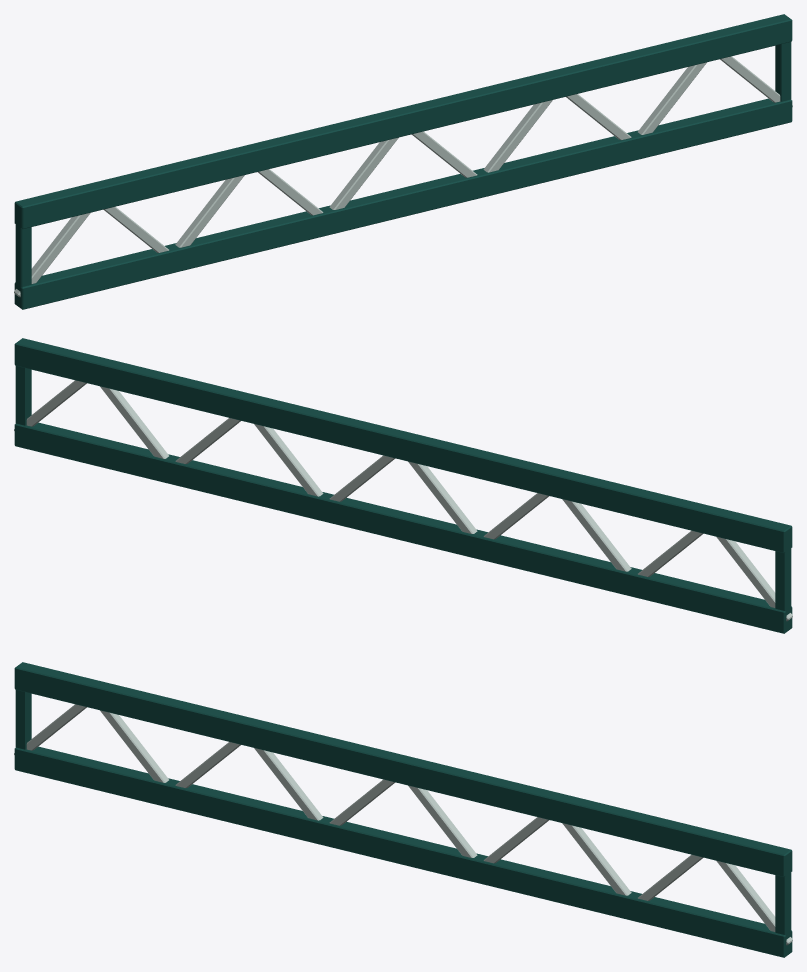
The model's file is truss.glb.
3 views of the same model, one above another, from view 1: azimuth 30°, elevation 25°; view 2: azimuth 150°, elevation 25°; view 3: azimuth 330°, elevation 25° (orthographic).
Parts seen in each view (by area): view 1: Cordão, Diagonal; view 2: Cordão, Diagonal; view 3: Cordão, Diagonal.
Part boxes in pixels (box(x1,y1,x2,y2)): Cordão: box(14, 14, 792, 309); Diagonal: box(14, 56, 792, 297); Cordão: box(14, 338, 792, 633); Diagonal: box(14, 380, 792, 621); Cordão: box(14, 662, 792, 957); Diagonal: box(14, 704, 792, 945).
Bounding box in the file's own units: 5.03 × 0.6397 × 0.0909.
